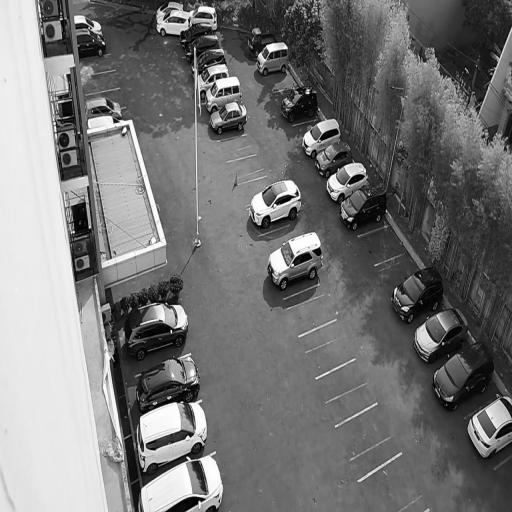Car: (131, 400, 213, 481), (136, 445, 228, 512), (426, 336, 501, 415), (121, 300, 196, 363), (133, 353, 206, 415), (407, 304, 474, 366), (263, 230, 327, 292), (386, 263, 447, 326), (461, 393, 512, 466), (245, 178, 305, 229), (336, 181, 391, 232), (323, 162, 371, 204), (299, 117, 342, 159), (278, 84, 322, 124), (312, 140, 356, 178), (203, 76, 244, 114), (252, 41, 292, 78), (208, 100, 250, 135), (189, 48, 228, 79), (198, 63, 230, 99), (177, 22, 215, 52), (183, 35, 221, 65), (244, 28, 278, 58), (156, 10, 192, 37), (75, 29, 107, 59), (85, 97, 123, 120), (189, 6, 219, 30), (74, 15, 103, 36), (87, 115, 124, 130), (155, 1, 184, 20)
Space Available: (335, 402, 402, 480), (358, 452, 429, 512), (316, 358, 377, 426), (299, 319, 355, 379), (284, 285, 336, 336), (357, 225, 404, 265), (375, 252, 416, 289), (227, 153, 267, 185), (218, 134, 257, 162), (258, 224, 295, 253), (83, 70, 120, 95), (80, 54, 115, 76), (265, 71, 297, 93), (238, 176, 270, 197), (85, 88, 125, 102), (292, 118, 321, 134)
